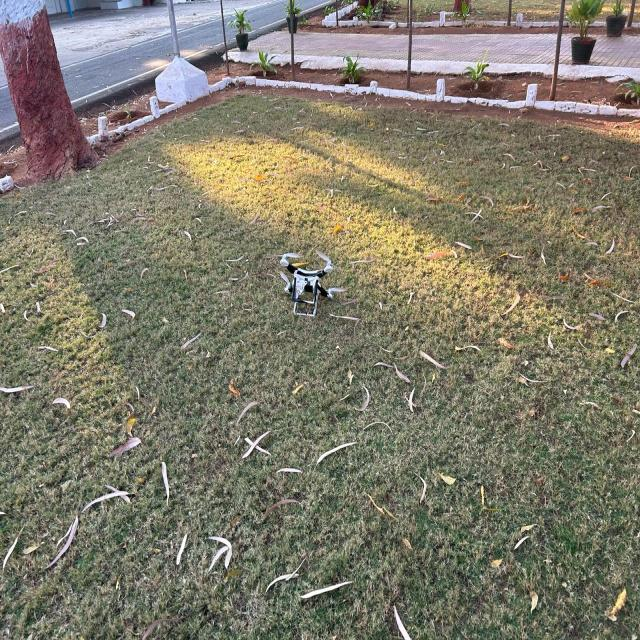drone: (266, 228, 357, 353)
